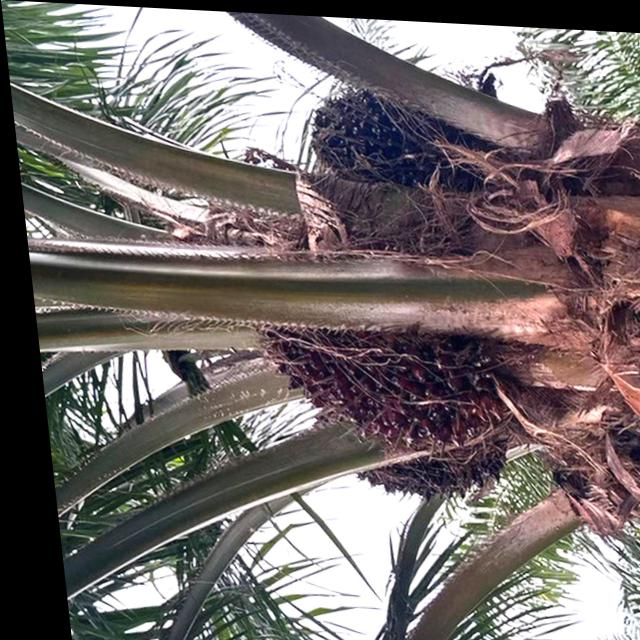ripe: (234, 294, 507, 471)
